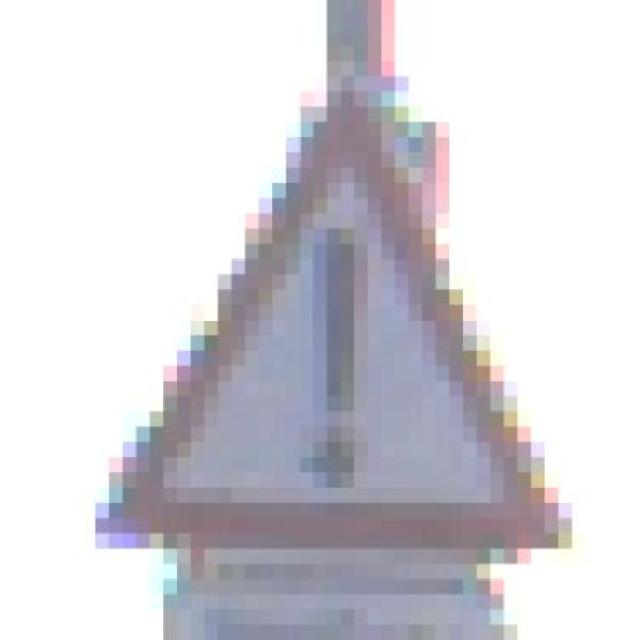Attention Please-: (59, 71, 578, 574)
